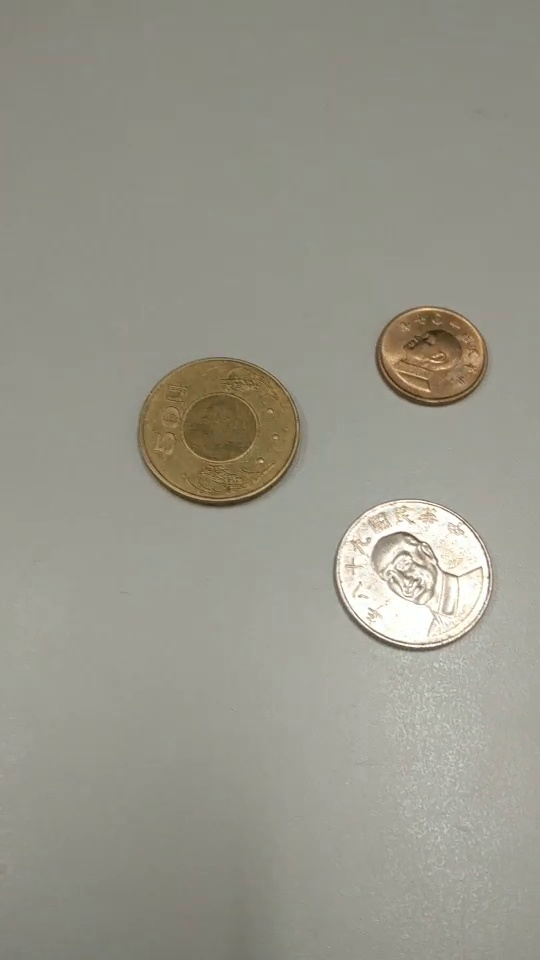NT$ 1: (374, 306, 489, 409)
NT$ 10: (334, 496, 495, 653)
NT$ 50: (139, 355, 301, 506)
